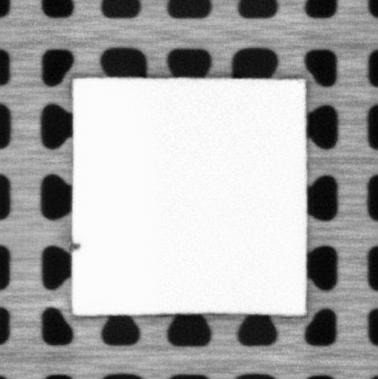DIE_INK: (72, 241, 82, 250)
